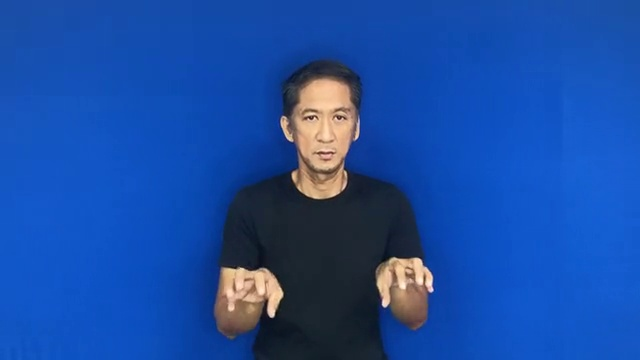egg: (221, 253, 438, 320)
